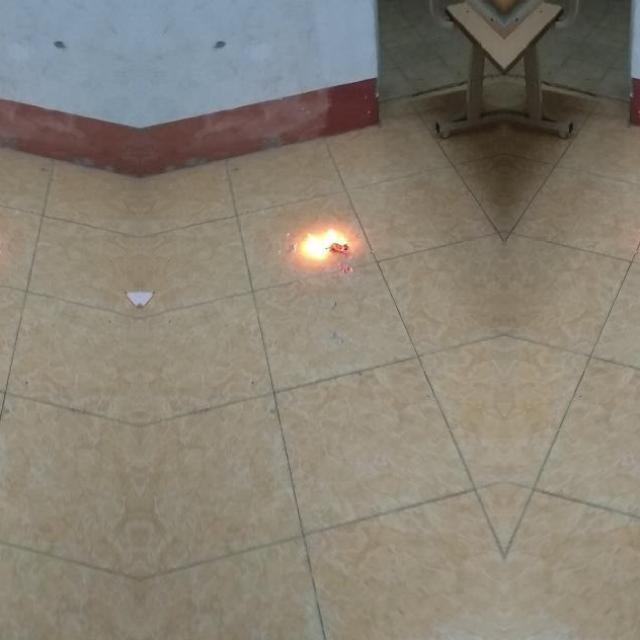smoke: (300, 228, 348, 260)
